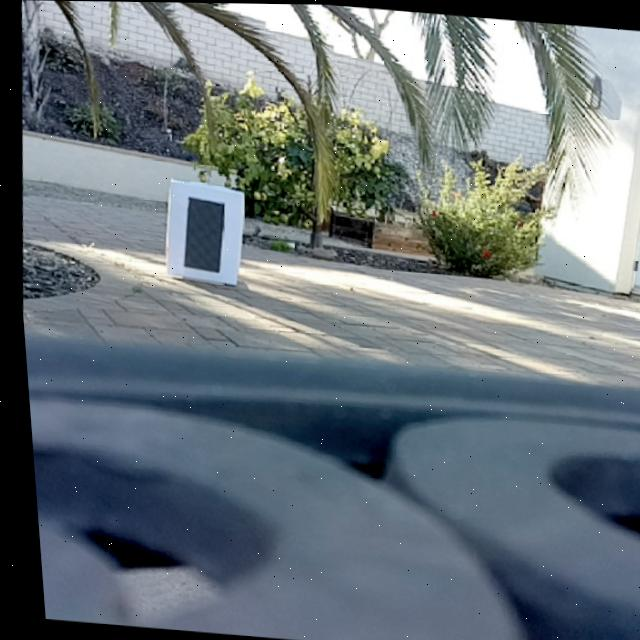led: (175, 195, 226, 273)
